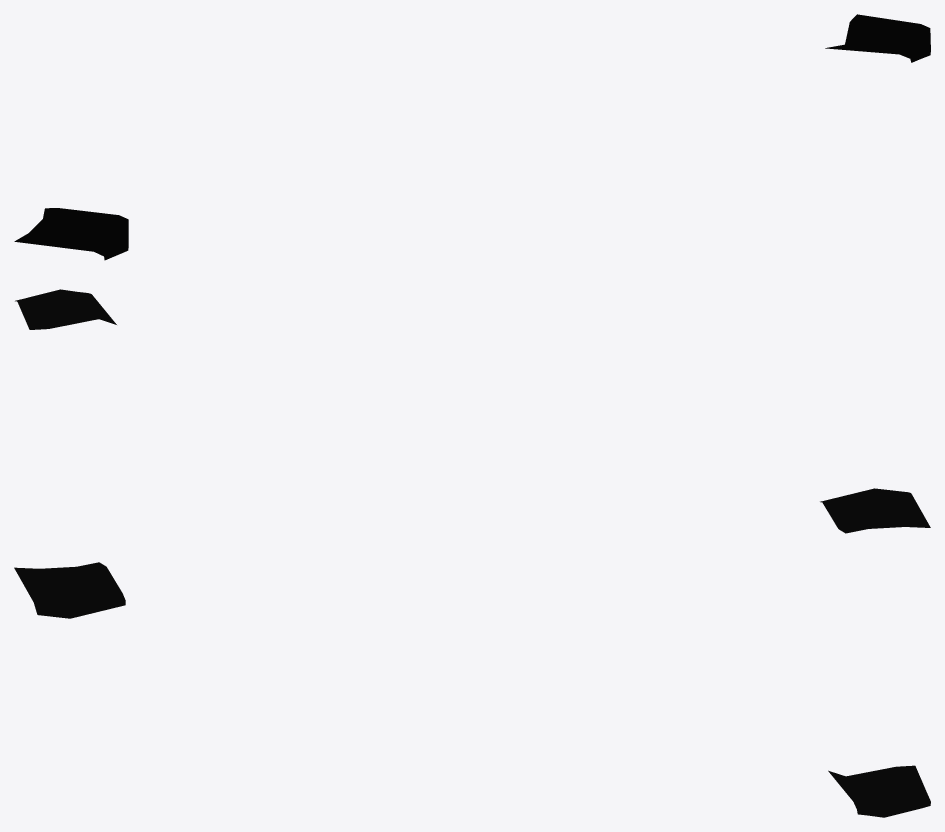
The picture shows the model from 3 angles, top to bottom: view 1: azimuth 30°, elevation 25°; view 2: azimuth 150°, elevation 25°; view 3: azimuth 330°, elevation 25°; orthographic projection.
Parts seen in each view (by area): view 1: Joint_0_Object_1, Joint_0_Object_0; view 2: Joint_0_Object_1, Joint_0_Object_0; view 3: Joint_0_Object_1, Joint_0_Object_0.
Boxes of the visible parts, x1,y1,x2,y2 form: Joint_0_Object_1: [14, 208, 128, 260]; Joint_0_Object_0: [825, 14, 930, 62]; Joint_0_Object_1: [820, 488, 930, 533]; Joint_0_Object_0: [15, 289, 116, 329]; Joint_0_Object_1: [14, 562, 125, 618]; Joint_0_Object_0: [828, 765, 930, 817].
Size of the model in its own units: 1489 by 12.76 by 172.
1 material, 1 textured.
